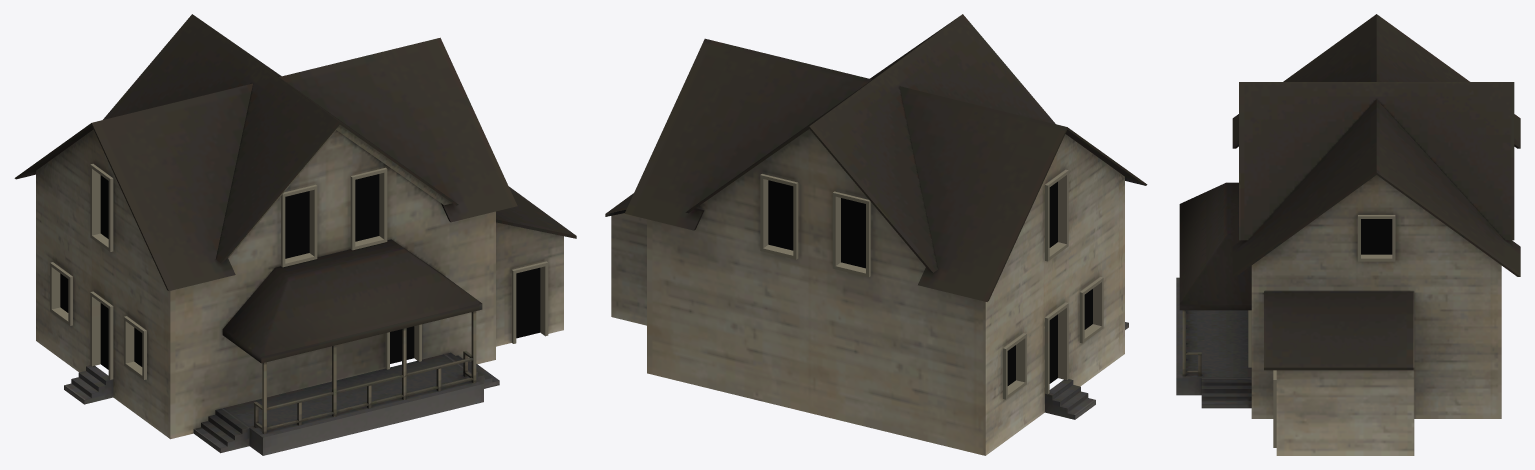
The model's file is farm_house.dae.
3 views of the same model, side by side, from view 1: azimuth 30°, elevation 25°; view 2: azimuth 150°, elevation 25°; view 3: azimuth 270°, elevation 25° (orthographic). The views are drawn at different scales.
Parts seen in each view (by area): view 1: farm_house; view 2: farm_house; view 3: farm_house.
Boxes of the visible parts, bbox=[...] form: farm_house: bbox=[14, 14, 576, 455]; farm_house: bbox=[605, 14, 1147, 455]; farm_house: bbox=[1176, 14, 1520, 455].
Bounding box in the file's own units: 13.94 × 10.09 × 8.51.
Materials: 1 (1 with a texture image).
